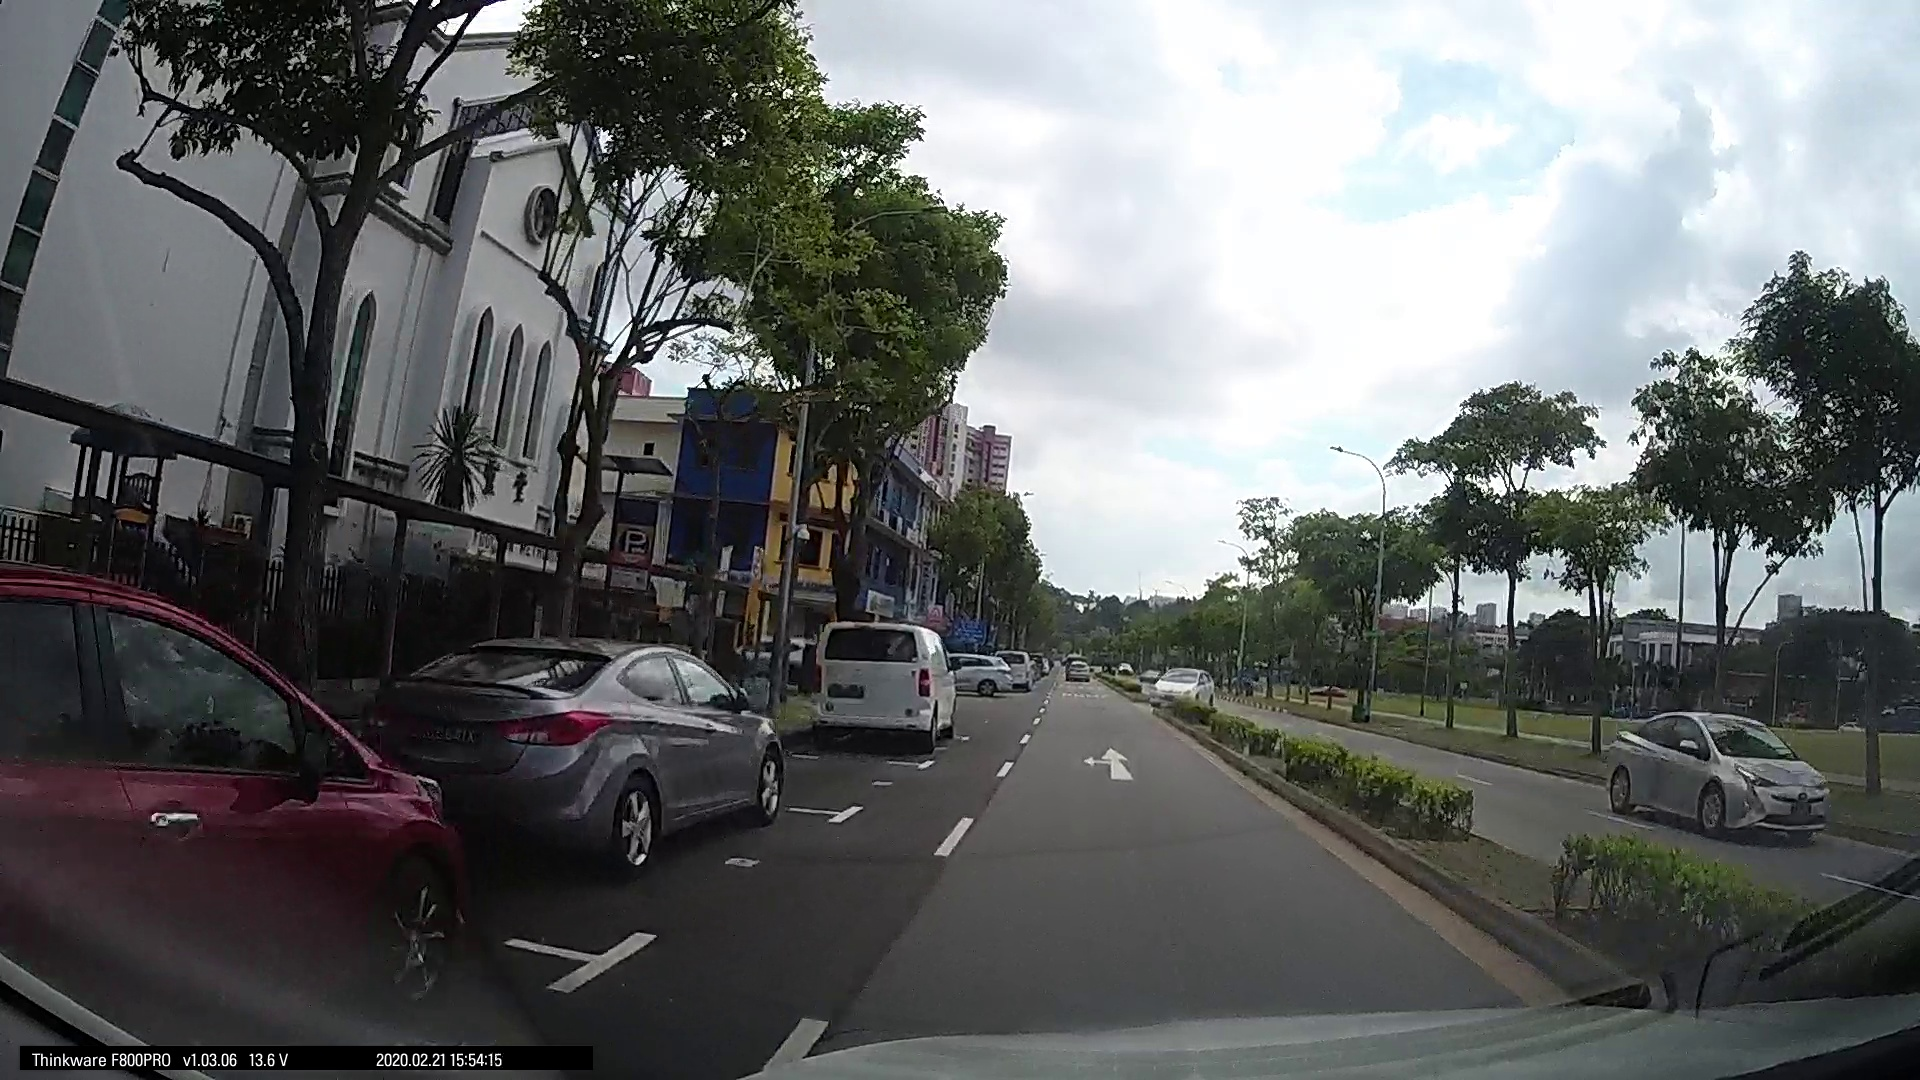Heavy Vehicle: (833, 618, 955, 731)
Light Vehicle: (1, 636, 564, 988), (440, 636, 771, 862), (1523, 665, 1766, 825), (1415, 682, 1513, 777), (1354, 686, 1433, 764), (1156, 651, 1220, 711), (1027, 654, 1072, 698), (955, 651, 996, 688)
